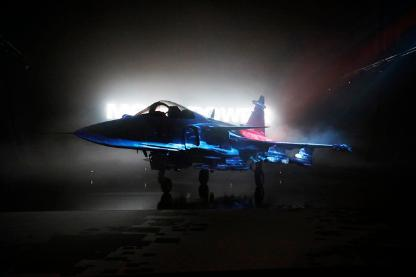JAS39: (40, 94, 352, 191)
